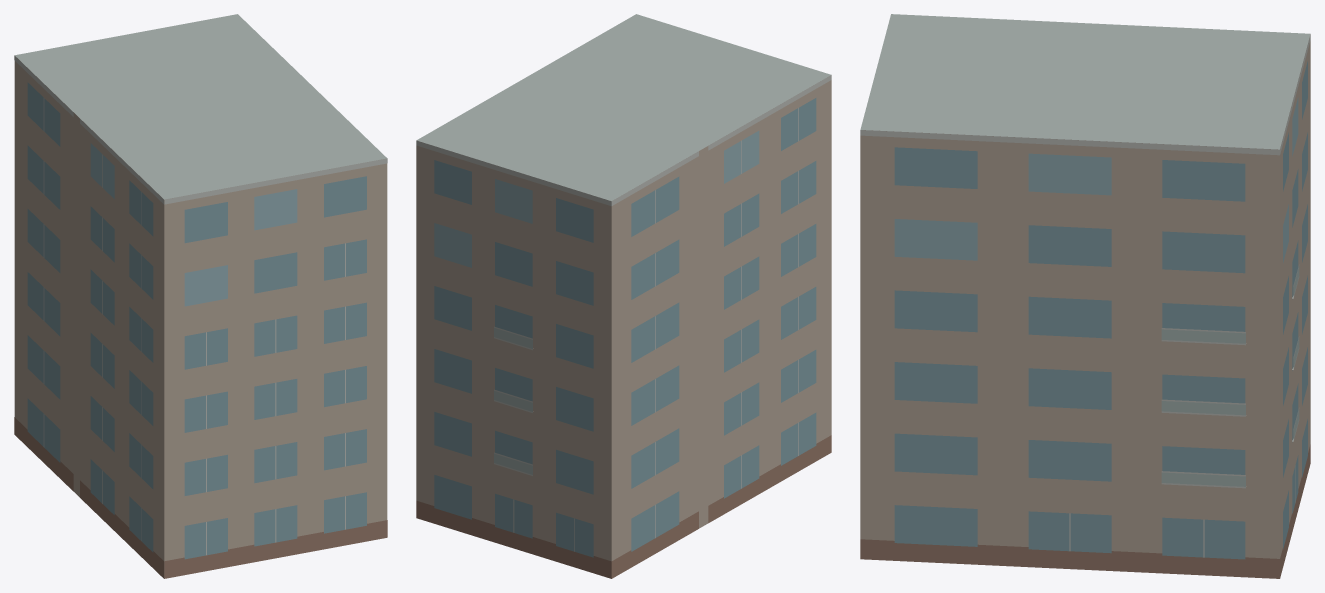
The model's file is survey-upis-32567026.glb.
The picture shows the model from 3 angles, left to right: view 1: azimuth 30°, elevation 25°; view 2: azimuth 150°, elevation 25°; view 3: azimuth 270°, elevation 25°; orthographic projection. The views are drawn at different scales.
Parts seen in each view (by area): view 1: survey-upis-32567026.tmp; view 2: survey-upis-32567026.tmp; view 3: survey-upis-32567026.tmp.
Boxes of the visible parts, left/top/right/bottom form: survey-upis-32567026.tmp: left=14, top=14, right=387, bottom=578; survey-upis-32567026.tmp: left=416, top=14, right=831, bottom=578; survey-upis-32567026.tmp: left=860, top=14, right=1310, bottom=578.
Bounding box in the file's own units: 12.4 × 18.3 × 17.4.
